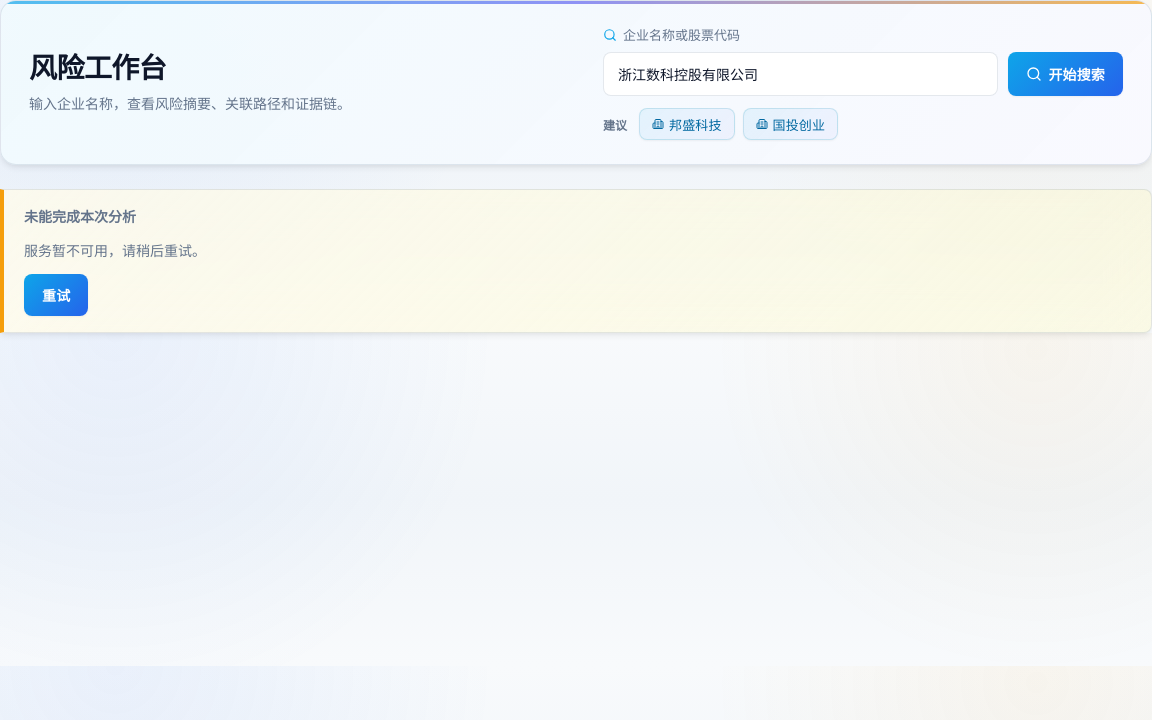
Test case: RiskWorkbench › shows a product-safe API failure and retries with the edited keyword
Replace the text in the search field labelled "企业名称或股票代码" with " 当前企业 " at (801, 74), box [603,52,998,96]
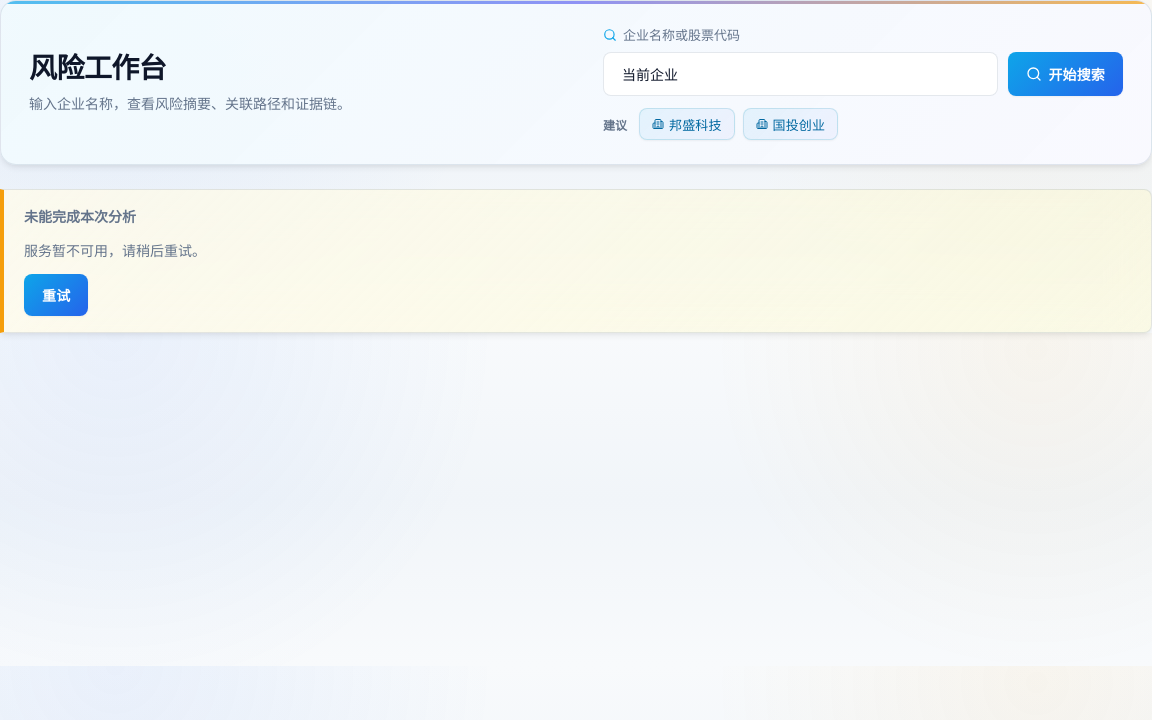
Click the button "重试" at (56, 295), box [24,274,88,316]
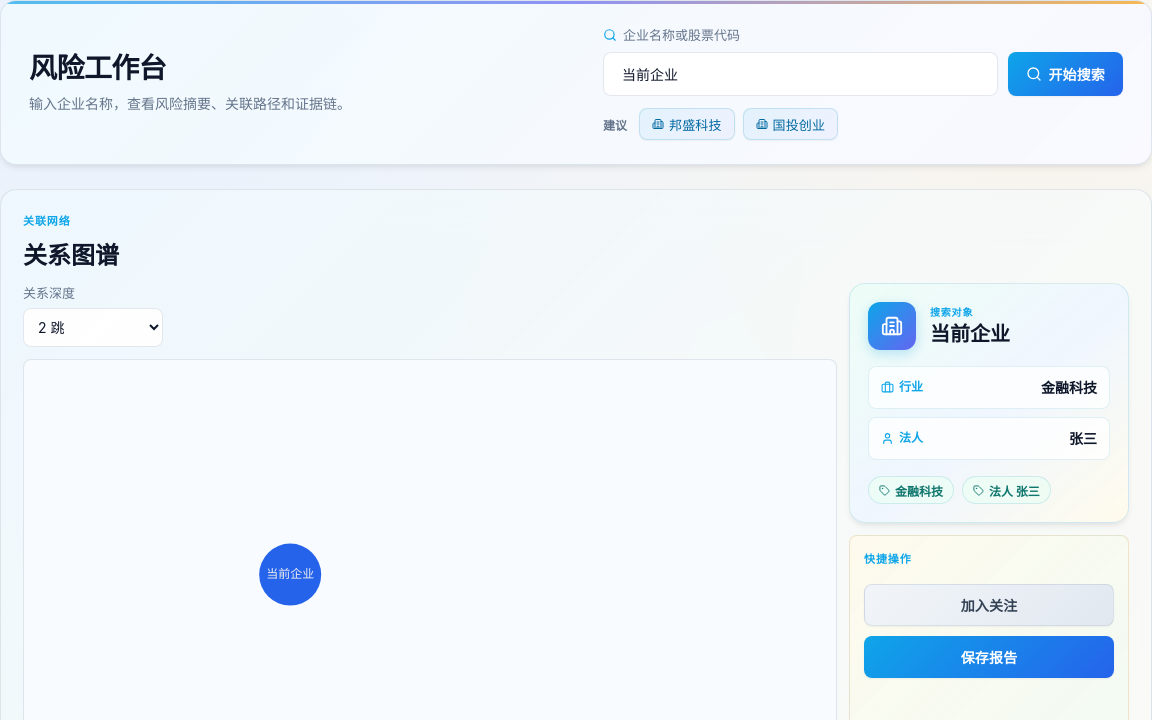
Expected: the text "当前企业" is shown, [930,321,1010,348]
